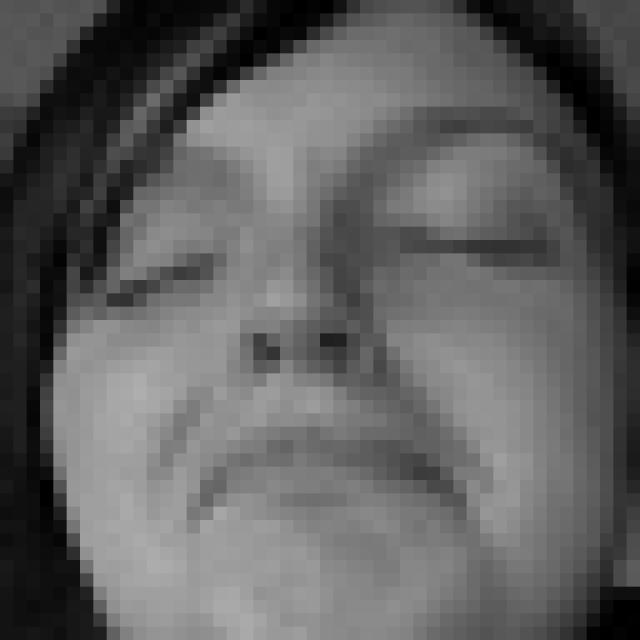sad: (92, 95, 582, 559)
